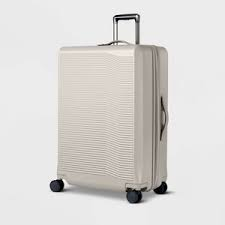suitcase: (47, 13, 170, 204)
